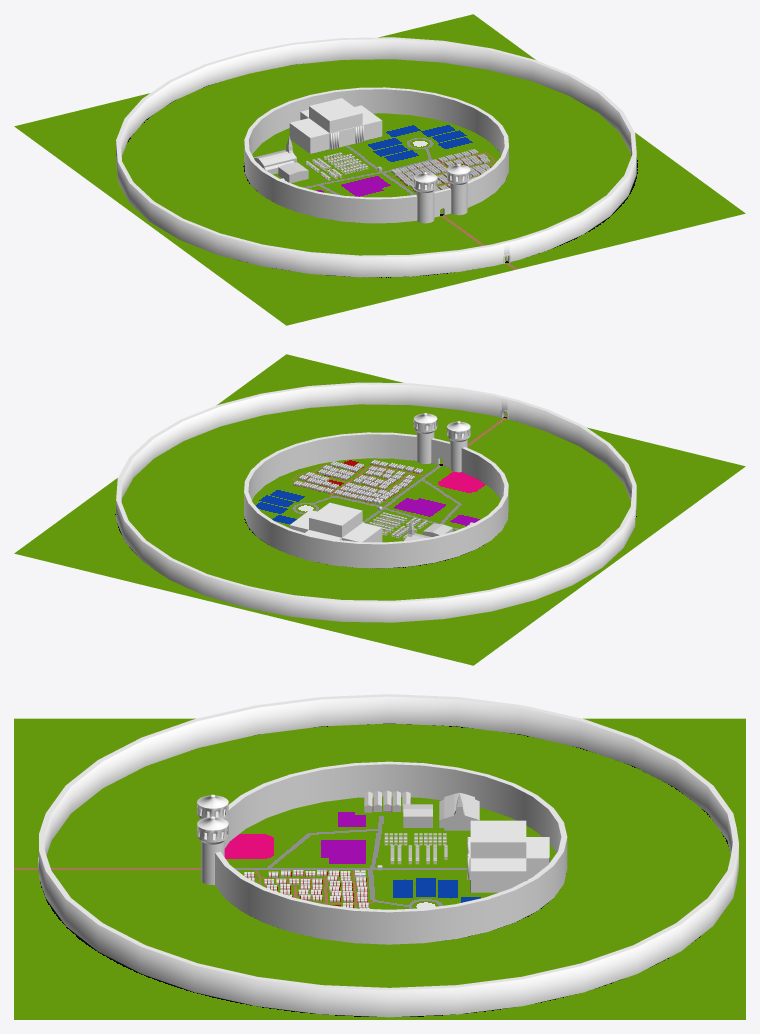
File: amarillo - Copy.glb
The picture shows the model from 3 angles, top to bottom: view 1: azimuth 30°, elevation 25°; view 2: azimuth 150°, elevation 25°; view 3: azimuth 270°, elevation 25°; orthographic projection. The views are drawn at different scales.
Visible parts, largest first — view 1: Ground, WallOuter, WallInner, Palace, Tower, SlumHouse.033, MarketStall.001, Temple; view 2: Ground, WallOuter, WallInner, SlumHouse.033, Palace, Tower, MarketStall.001; view 3: Ground, WallOuter, WallInner, Palace, SlumHouse.033, Tower, Temple, MarketStall.001, NarrowShop, Cube.001.
Part boxes in pixels (<box>): Ground: <box>14,14,745,325</box>; WallOuter: <box>116,37,636,277</box>; WallInner: <box>244,87,508,223</box>; Palace: <box>289,98,382,153</box>; Tower: <box>413,164,470,223</box>; SlumHouse.033: <box>395,149,490,192</box>; MarketStall.001: <box>305,152,368,180</box>; Temple: <box>253,136,296,174</box>; Ground: <box>14,354,745,665</box>; WallOuter: <box>116,382,636,622</box>; WallInner: <box>244,432,508,568</box>; SlumHouse.033: <box>293,460,422,503</box>; Palace: <box>289,502,382,542</box>; Tower: <box>413,413,470,472</box>; MarketStall.001: <box>369,512,427,539</box>; Ground: <box>14,718,745,1019</box>; WallOuter: <box>38,694,738,1017</box>; WallInner: <box>215,761,567,944</box>; Palace: <box>467,820,549,892</box>; SlumHouse.033: <box>244,870,369,908</box>; Tower: <box>197,794,228,884</box>; Temple: <box>439,792,479,830</box>; MarketStall.001: <box>384,833,447,864</box>; NarrowShop: <box>364,790,410,812</box>; Cube.001: <box>403,804,432,827</box>.
Size of the model in its own units: 600 by 59.93 by 616.
4 materials, 1 textured.
